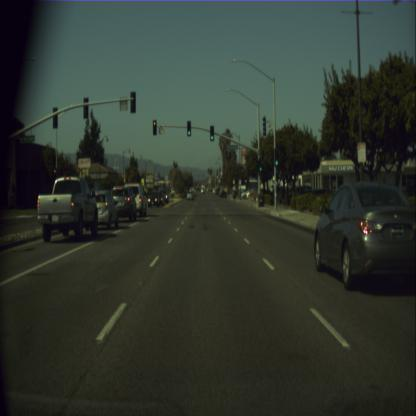Green: (274, 147, 278, 166), (187, 121, 191, 136), (210, 126, 214, 140), (258, 160, 262, 170)
Red: (152, 119, 156, 135), (52, 168, 56, 173)
